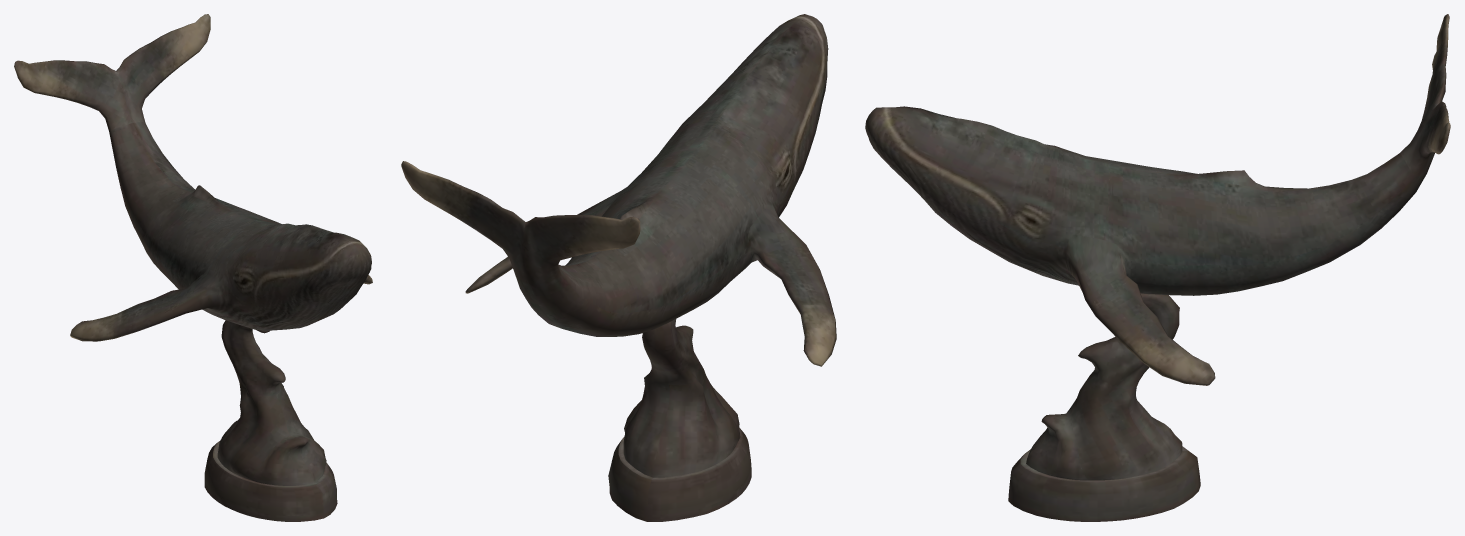
The model's file is whale-monument-7d53117ca732.glb.
The picture shows the model from 3 angles, left to right: view 1: azimuth 30°, elevation 25°; view 2: azimuth 150°, elevation 25°; view 3: azimuth 270°, elevation 25°; orthographic projection. The views are drawn at different scales.
Visible parts, largest first — view 1: ph_echo_whale_bronze_sculpture_part_0; view 2: ph_echo_whale_bronze_sculpture_part_0; view 3: ph_echo_whale_bronze_sculpture_part_0.
Boxes of the visible parts, box(x1,y1,x2,y2) form: ph_echo_whale_bronze_sculpture_part_0: box(14, 14, 372, 521); ph_echo_whale_bronze_sculpture_part_0: box(401, 14, 836, 521); ph_echo_whale_bronze_sculpture_part_0: box(865, 14, 1450, 521).
Size of the model in its own units: 0.932 by 1.07 by 1.37.
Materials: 1 (1 with a texture image).
